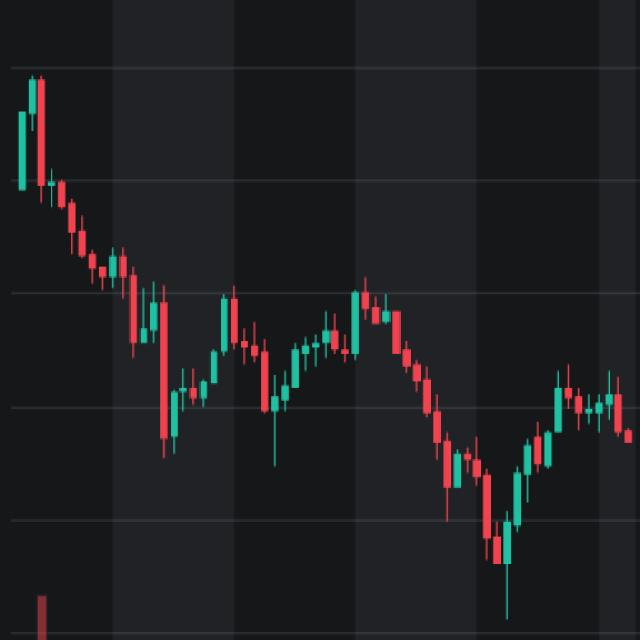Resistance-Emerging: (164, 289, 631, 577)
